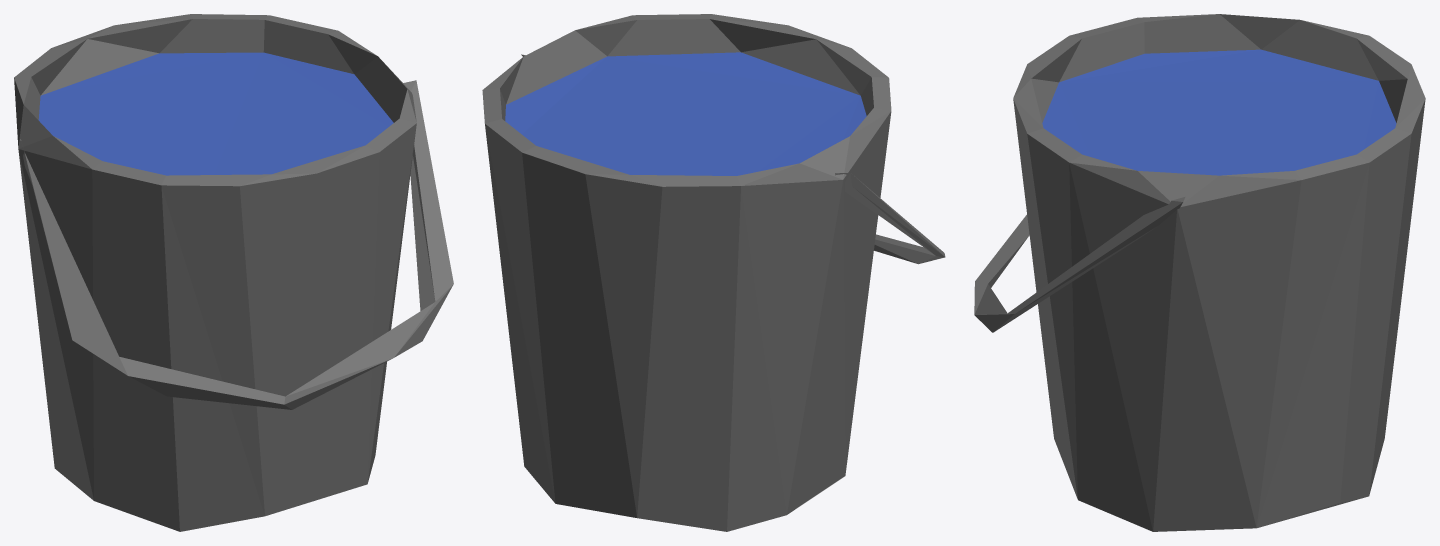
File: food_water.fbx
3 renders of one model, left to right at view 1: azimuth 30°, elevation 25°; view 2: azimuth 150°, elevation 25°; view 3: azimuth 270°, elevation 25°, orthographic.
Visible parts, largest first — view 1: Cube.004; view 2: Cube.004; view 3: Cube.004.
Boxes of the visible parts, x1,y1,x2,y2 form: Cube.004: [14, 14, 453, 531]; Cube.004: [482, 14, 945, 531]; Cube.004: [974, 14, 1425, 531].
Bounding box in the file's own units: 266 × 244 × 266.
